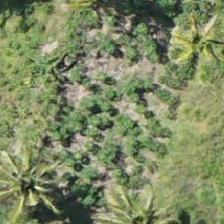coconut_tree: (0, 136, 72, 223), (150, 0, 223, 83), (98, 177, 188, 223)
